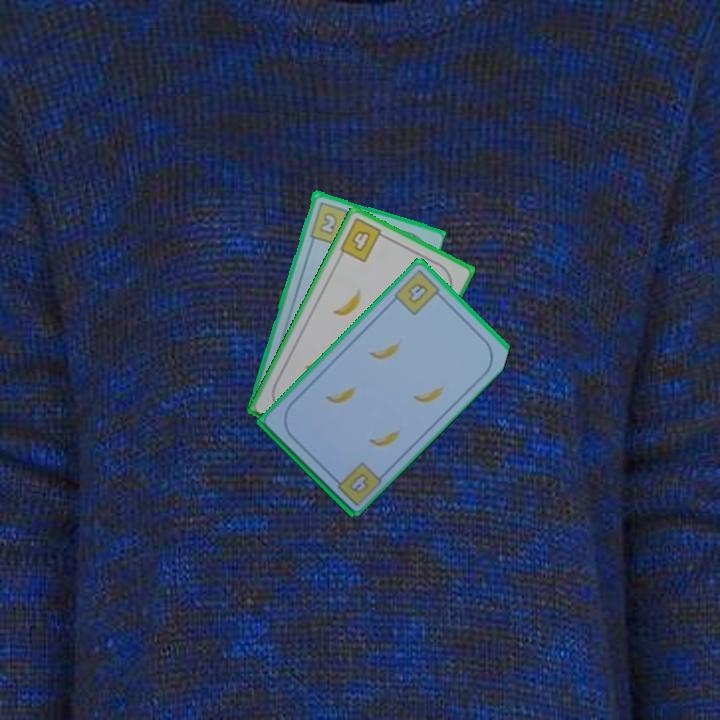2b: (306, 198, 356, 247)
4b: (390, 266, 446, 318), (336, 214, 390, 265), (345, 469, 372, 496)
